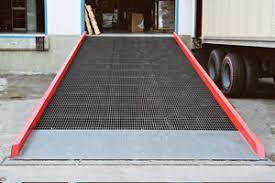Yard Ramp: (10, 31, 266, 161)
